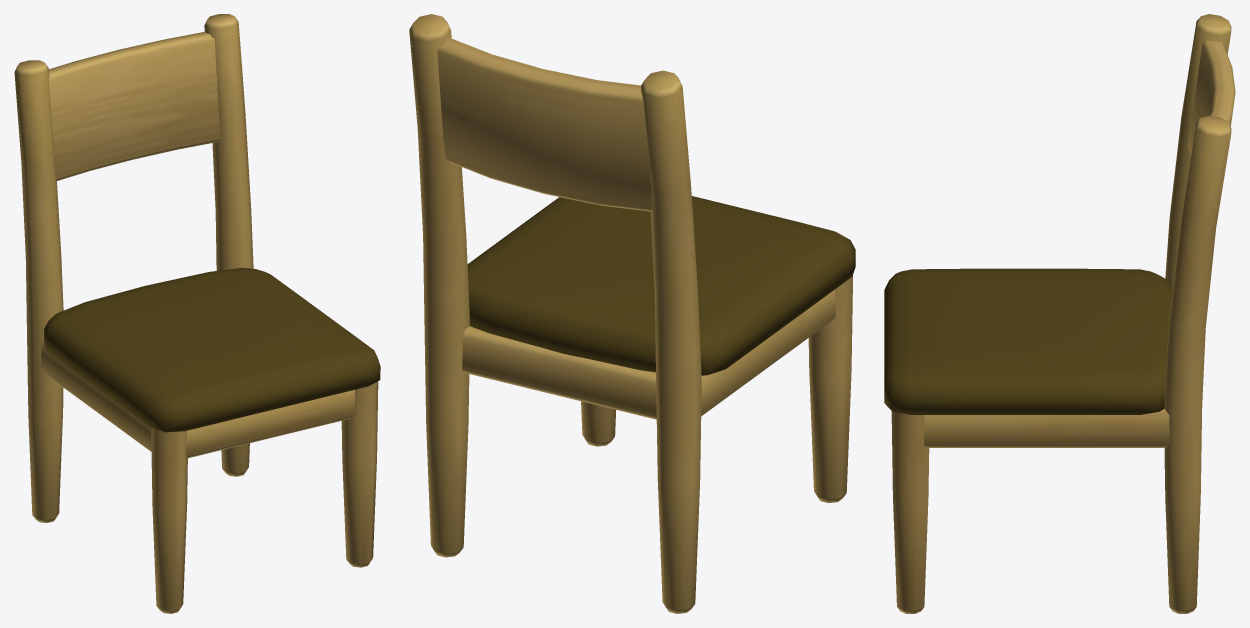
The picture shows the model from 3 angles, left to right: view 1: azimuth 30°, elevation 25°; view 2: azimuth 150°, elevation 25°; view 3: azimuth 270°, elevation 25°; orthographic projection. The views are drawn at different scales.
Bounding box in the file's own units: 5.46 × 10.24 × 6.66.
2 materials, 2 textured.
